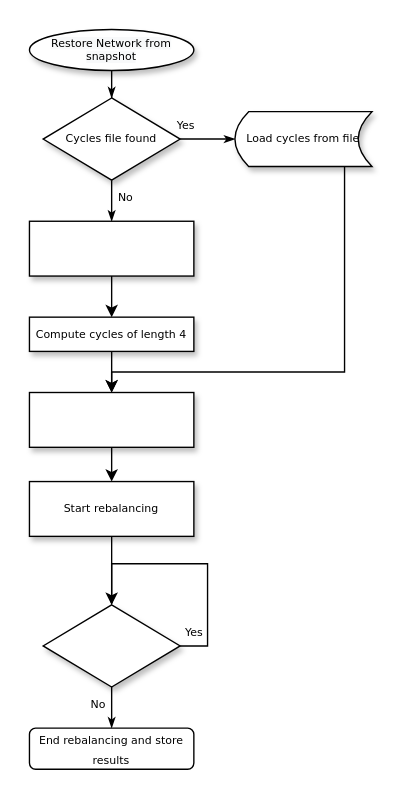
The diagram is 404 pixels wide and 793 high, and some of its shapes have lost their labels. Each missing label, with the centre of its shape:
"Compute desired flow for each node" belongs at point 112,250.
"Cycles in desired flow available" belongs at point 112,647.
"Define which nodes do participate" belongs at point 112,421.
